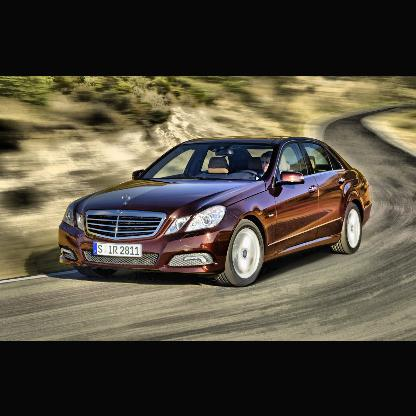Mercedes-Benz E-Class Sedan 2012: (59, 135, 374, 289)
